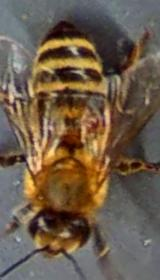varroa_mite: (80, 112, 104, 137)
